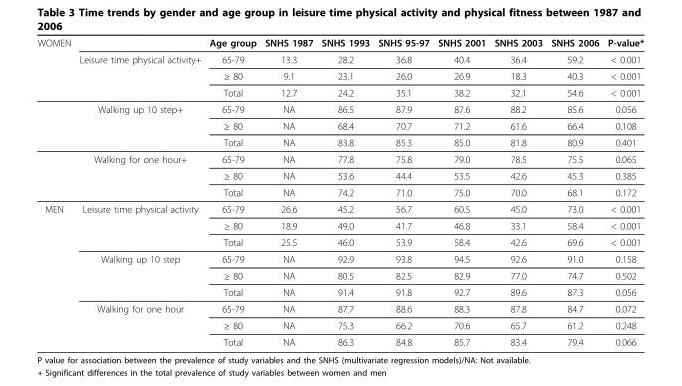table: (36, 36, 643, 347)
table column: (74, 36, 204, 347), (373, 36, 432, 347), (316, 36, 373, 347), (432, 36, 489, 347), (489, 36, 546, 347), (204, 36, 260, 347), (260, 36, 316, 347), (546, 36, 602, 347), (602, 36, 643, 347), (36, 36, 74, 347)
table column header: (36, 36, 643, 100)
table row: (36, 50, 643, 67), (36, 67, 643, 84), (36, 100, 643, 117), (36, 133, 643, 150), (36, 150, 643, 167), (36, 183, 643, 200), (36, 200, 643, 217), (36, 233, 643, 250), (36, 266, 643, 283), (36, 283, 643, 300), (36, 316, 643, 333), (36, 84, 643, 100), (36, 117, 643, 133), (36, 167, 643, 183), (36, 217, 643, 233), (36, 250, 643, 266), (36, 300, 643, 316), (36, 36, 643, 50), (36, 333, 643, 347)
table spanning cell: (74, 36, 204, 100), (36, 200, 74, 347), (373, 36, 432, 100), (316, 36, 373, 100), (432, 36, 489, 100), (489, 36, 546, 100), (204, 36, 260, 100), (260, 36, 316, 100), (546, 36, 602, 100), (602, 36, 643, 100), (36, 36, 74, 100)
